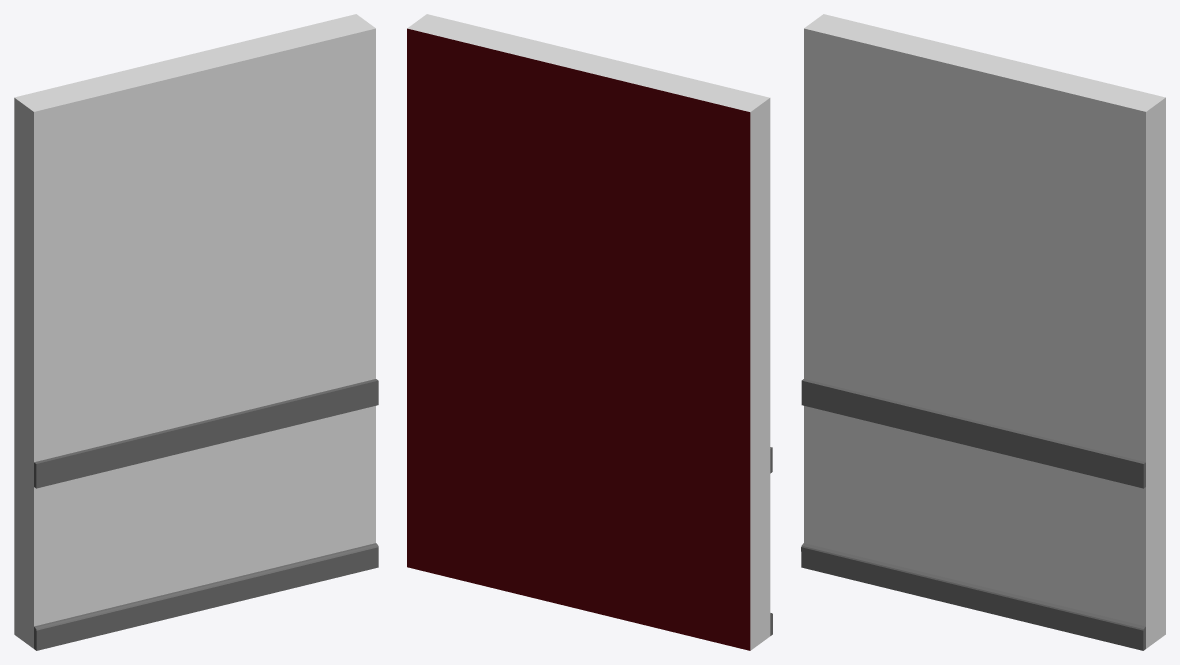
Rendered from WandMitLeiste2_4.glb.
The picture shows the model from 3 angles, left to right: view 1: azimuth 30°, elevation 25°; view 2: azimuth 150°, elevation 25°; view 3: azimuth 330°, elevation 25°; orthographic projection.
Parts seen in each view (by area): view 1: Wand 1 * 4; view 2: Wand 1 * 4; view 3: Wand 1 * 4.
Boxes of the visible parts, x1=… form: Wand 1 * 4: x1=14, y1=14, x2=378, y2=650; Wand 1 * 4: x1=407, y1=14, x2=772, y2=650; Wand 1 * 4: x1=801, y1=14, x2=1165, y2=650.
Bounding box in the file's own units: 2 × 3 × 0.2269.
